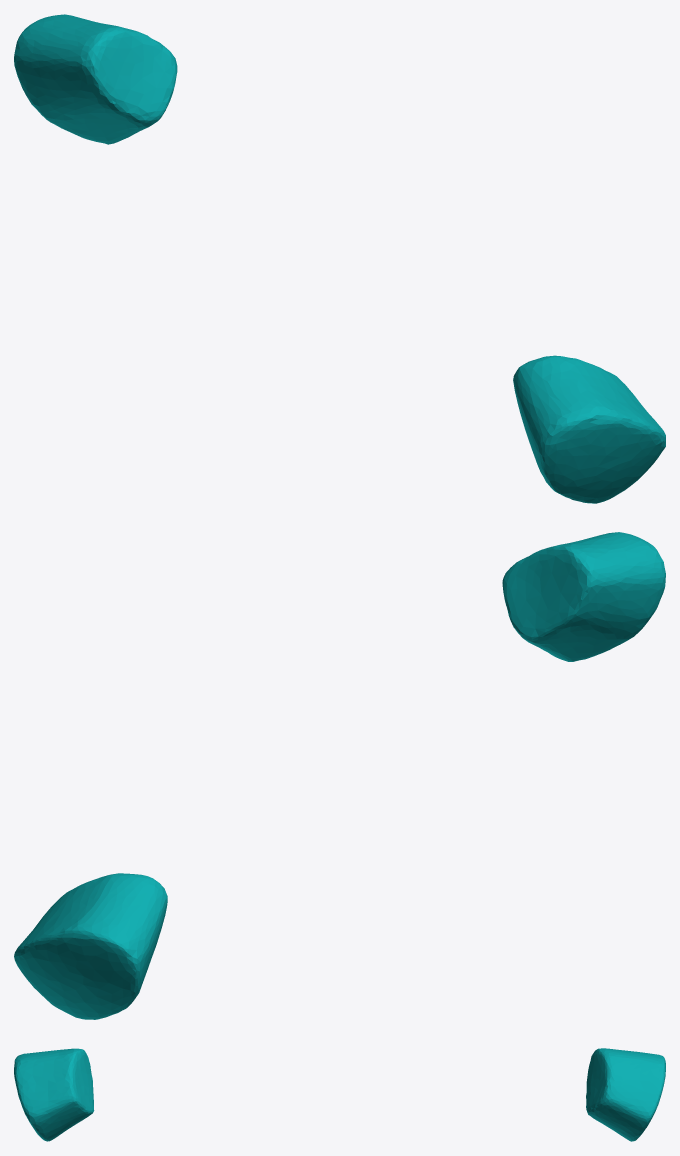
3 renders of one model, top to bottom at view 1: azimuth 30°, elevation 25°; view 2: azimuth 150°, elevation 25°; view 3: azimuth 270°, elevation 25°, orthographic. The views are drawn at different scales.
Parts seen in each view (by area): view 1: 1002.obj; view 2: 1002.obj; view 3: 1002.obj.
Part boxes in pixels (left/top/right/bottom): 1002.obj: left=14, top=14, right=665, bottom=503; 1002.obj: left=14, top=532, right=665, bottom=1019; 1002.obj: left=14, top=1048, right=665, bottom=1141.
Size of the model in its own units: 1411 by 1389 by 10229.
